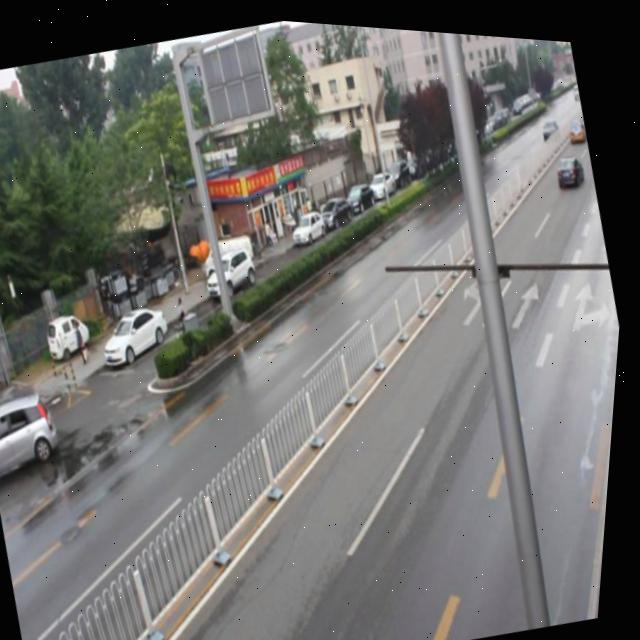car: (553, 144, 585, 176)
